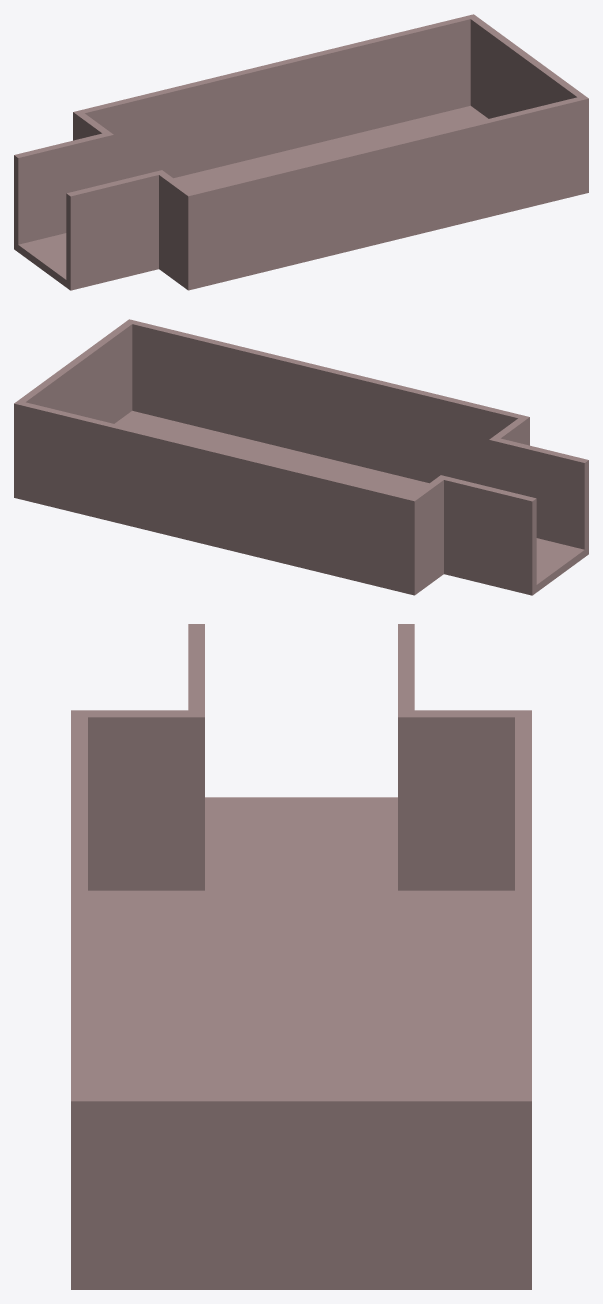
The model's file is Room_3.fbx.
3 renders of one model, top to bottom at view 1: azimuth 30°, elevation 25°; view 2: azimuth 150°, elevation 25°; view 3: azimuth 270°, elevation 25°, orthographic. The views are drawn at different scales.
Parts seen in each view (by area): view 1: pCube15; view 2: pCube15; view 3: pCube15.
Boxes of the visible parts, x1,y1,x2,y2 form: pCube15: (14, 14, 588, 290); pCube15: (14, 319, 588, 595); pCube15: (71, 624, 531, 1289).
Size of the model in its own units: 2903 by 535 by 1184.
